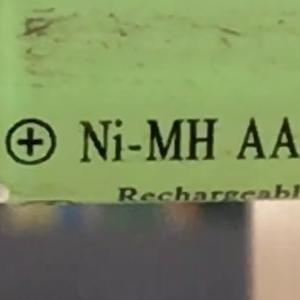keyword: (70, 109, 226, 172)
